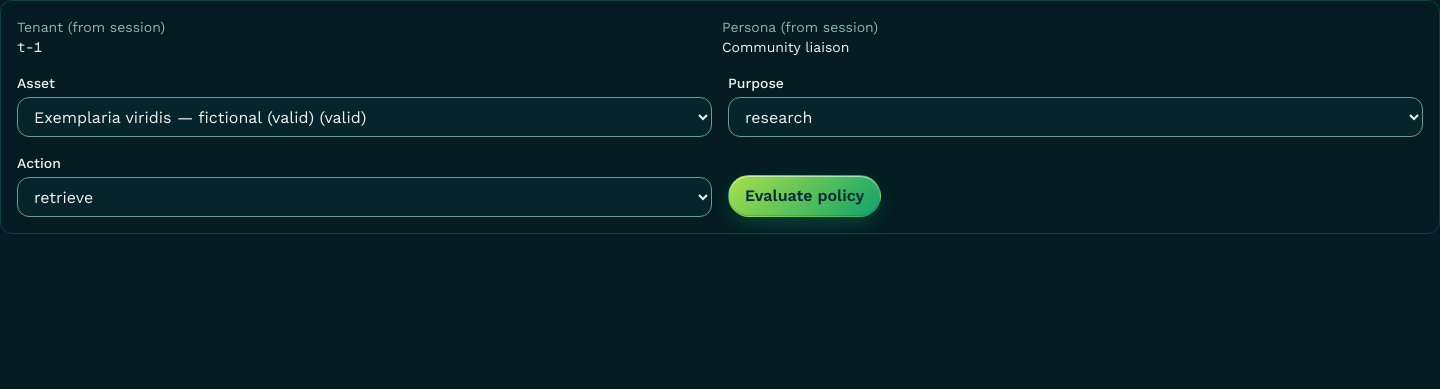
Test case: PolicyEvaluator › posts the chosen inputs and shows the decision
The image size is (1440, 389).
Expected: the text "t-1" is shown, left=17, top=38, right=42, bottom=56
Click the button "Evaluate policy" at (805,196), box left=728, top=175, right=881, bottom=217
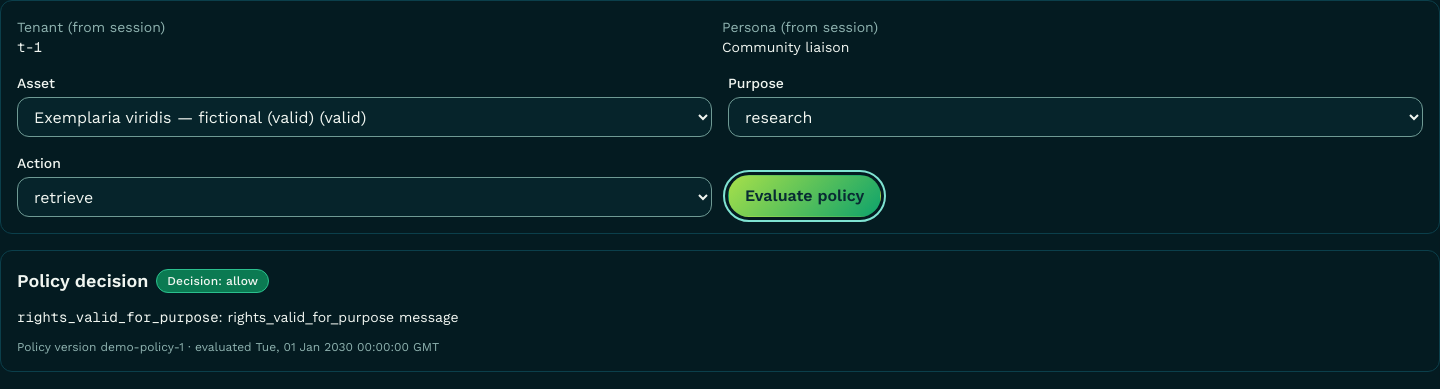
Now the text with test id "policy-decision" shows "allow", box left=226, top=274, right=258, bottom=288
Select "commercial" in the dropdown labelled "Purpose" at (1076,117), box left=728, top=97, right=1423, bottom=137
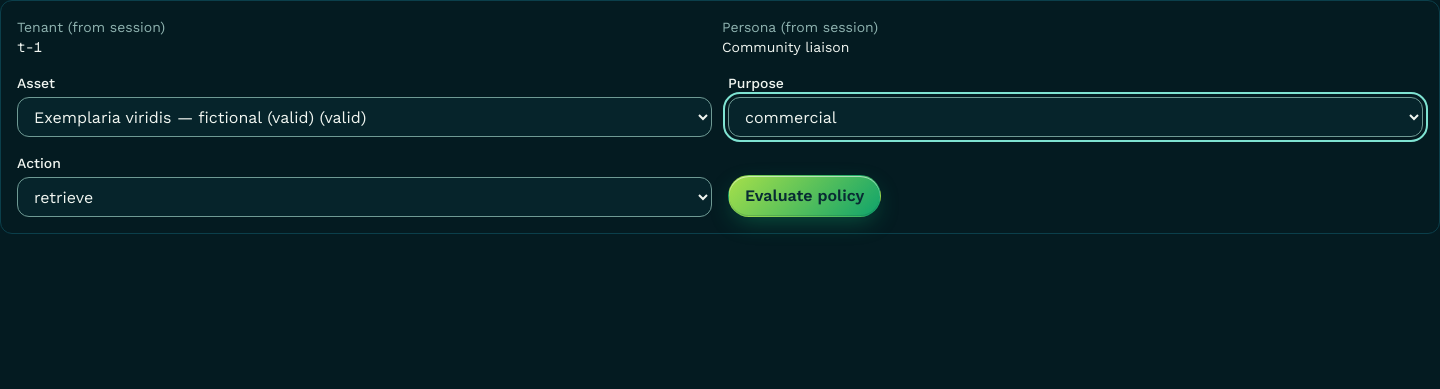
Now the text with test id "policy-decision" is gone
